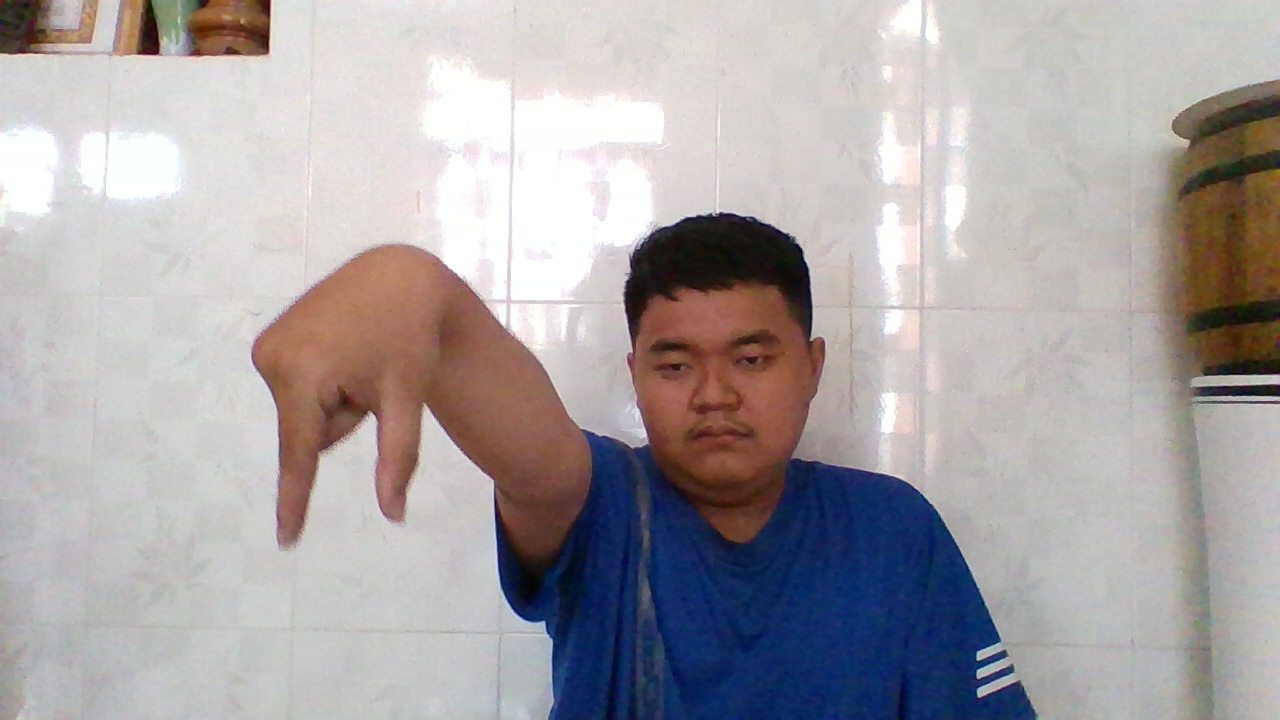Q: (251, 253, 434, 549)
